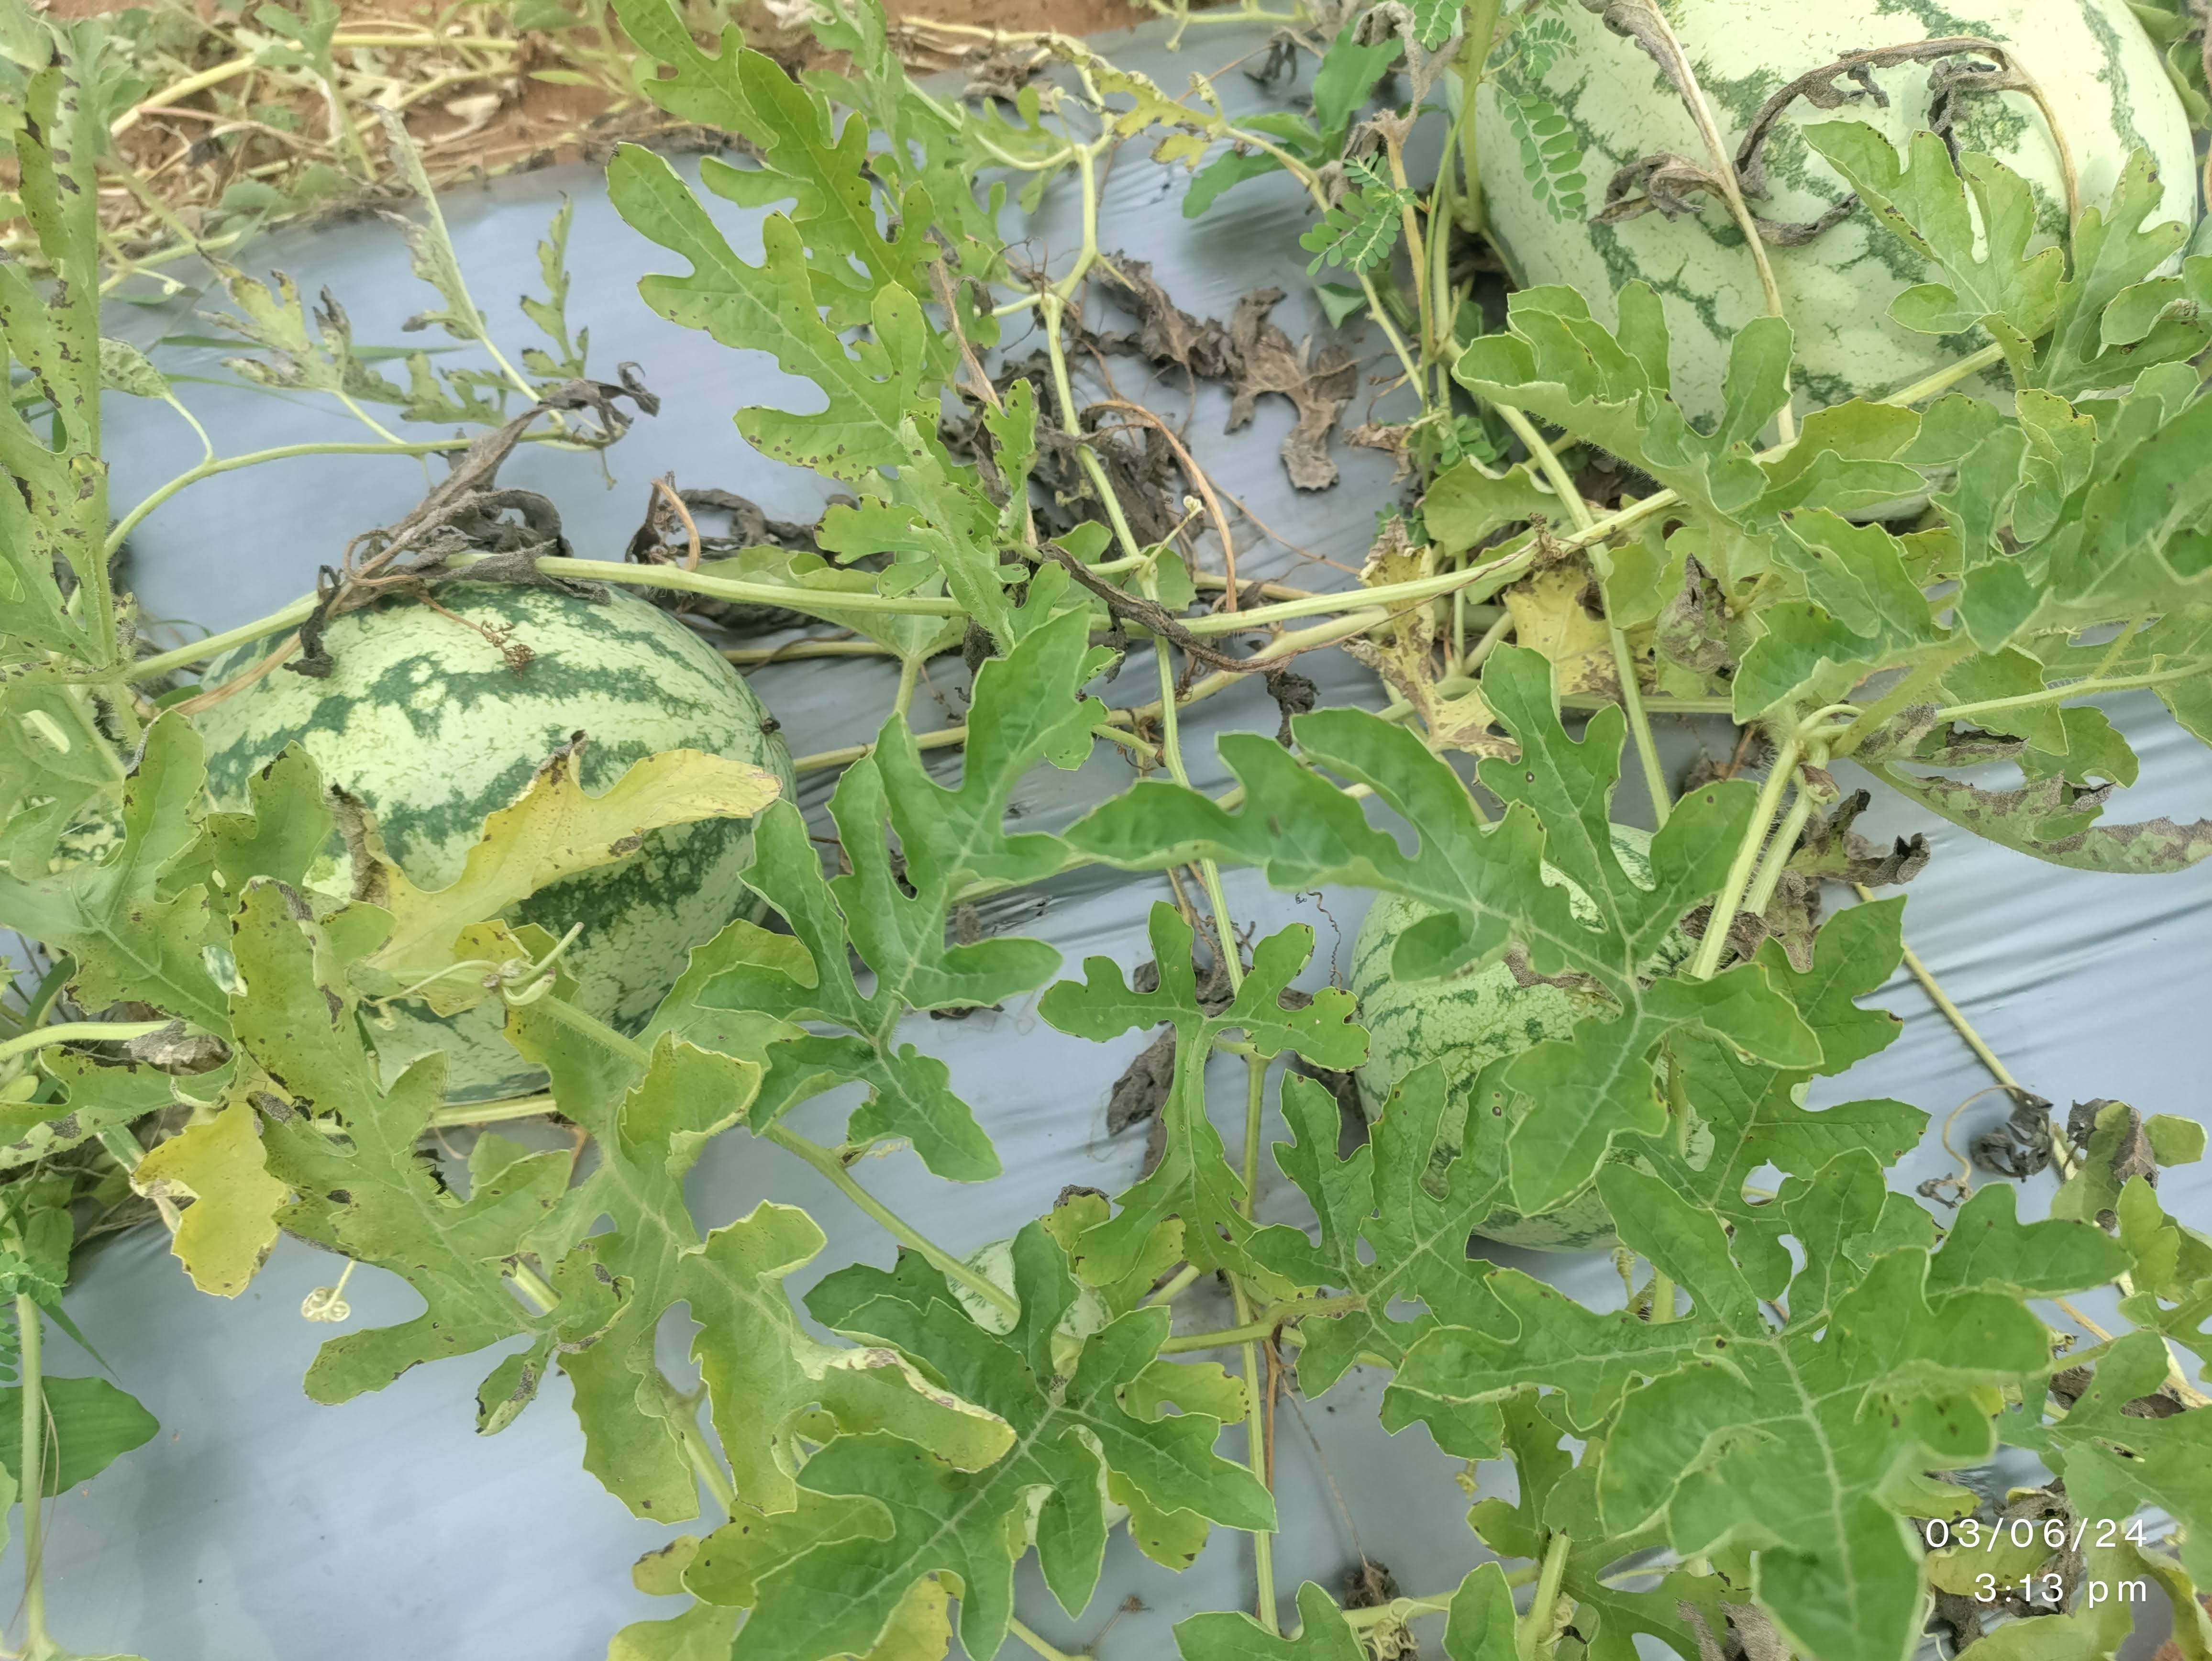good-to-harvest: (1403, 0, 2207, 551), (92, 529, 804, 1120)
